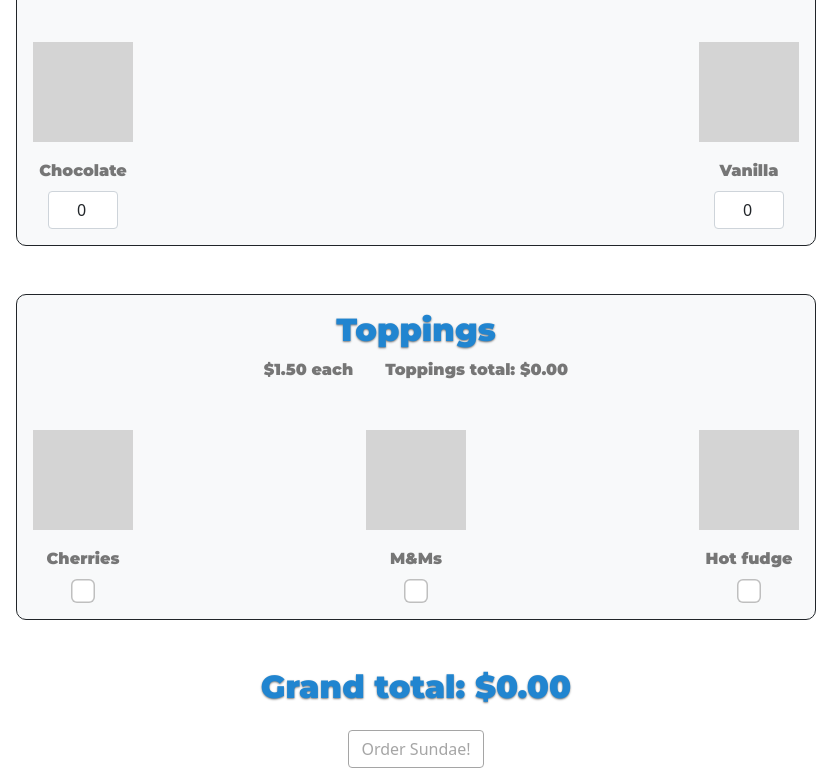
Test: grand total › grand total updates properly if topping is added first
The image size is (833, 768).
(page scrolled)
# Add cherries and check grand total
Click the checkbox labelled "Cherries" at (83, 591), box [71,579,95,603]
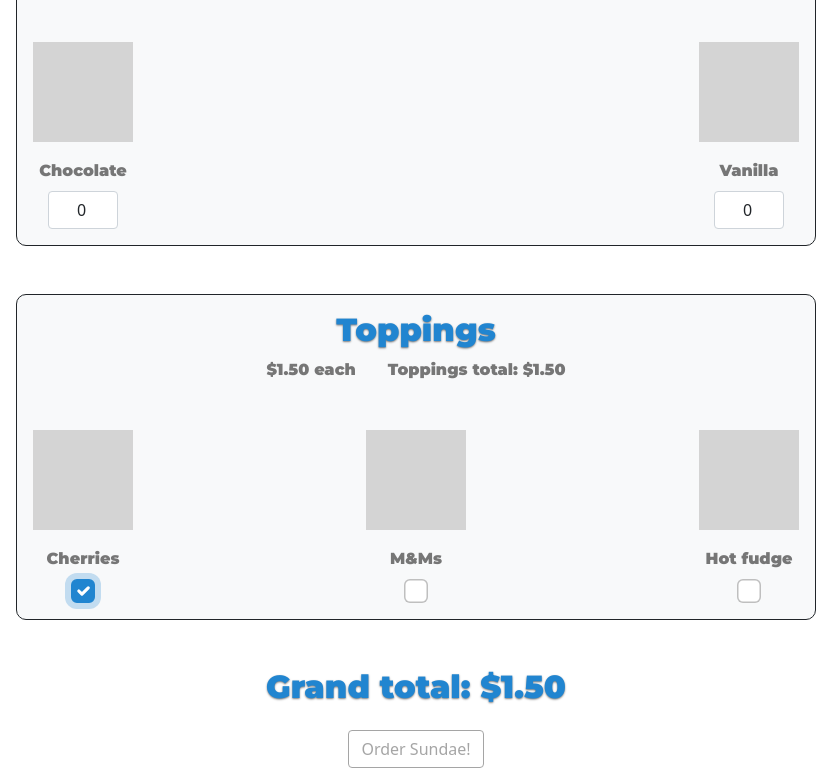
expect the heading "Grand total: $1.50" is shown: met, box [266,667,566,706]
# Update vanilla scoops to 2 and check grand total
Replace the text in the number field labelled "Vanilla" with "2" at (749, 210), box [714,191,784,229]
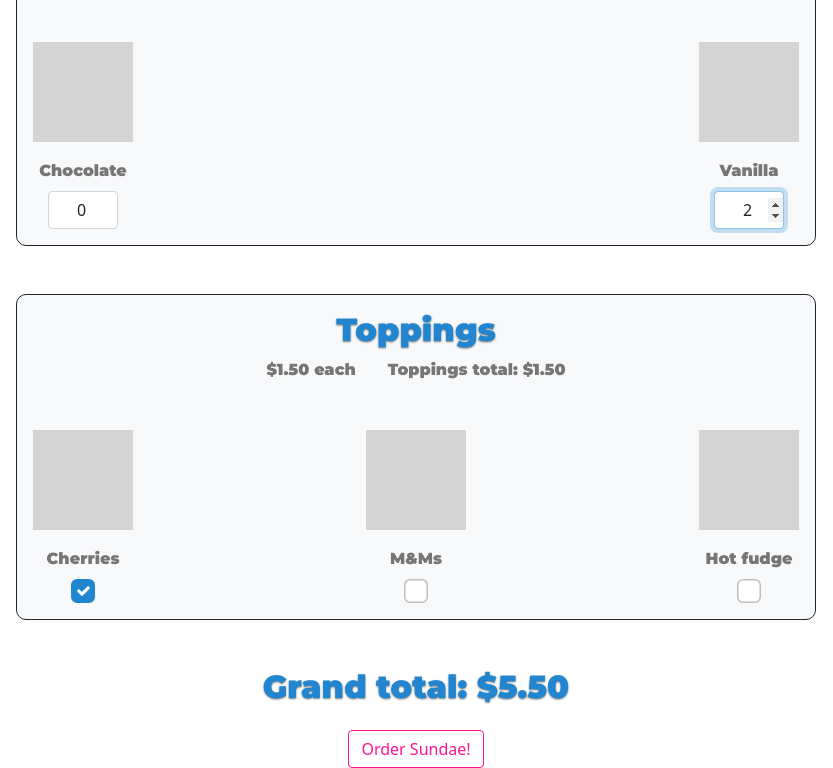
expect the heading "Grand total: $5.50" is shown: met, box [263,667,569,706]
